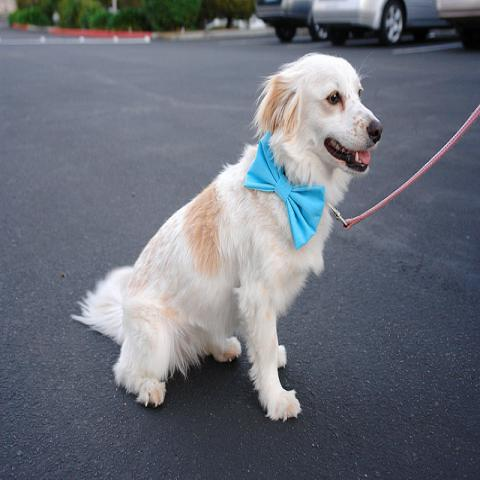car: (309, 0, 452, 54), (255, 0, 324, 40), (436, 1, 479, 53)
